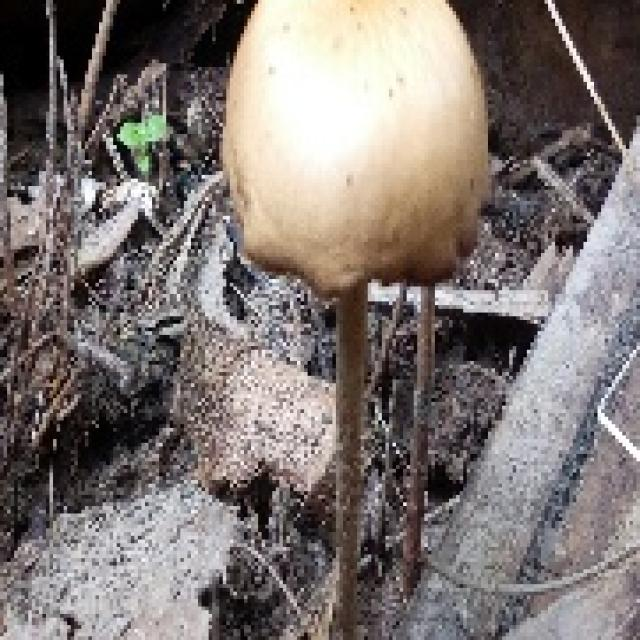mushroom: (230, 0, 460, 614)
